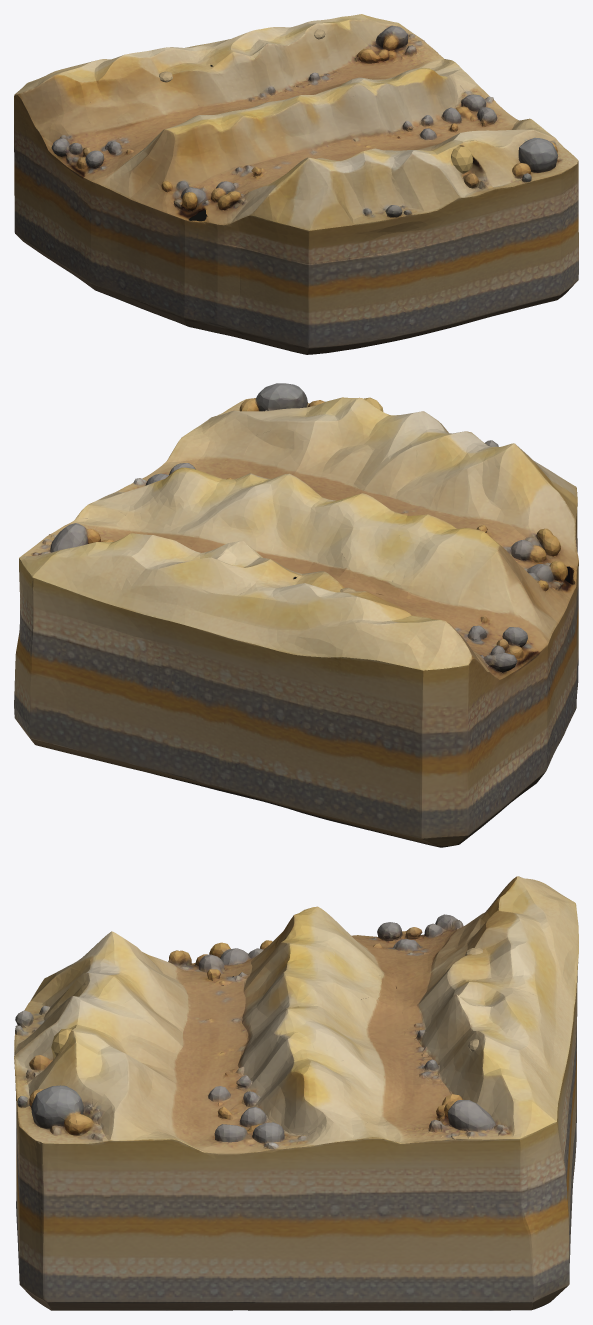
The picture shows the model from 3 angles, top to bottom: view 1: azimuth 30°, elevation 25°; view 2: azimuth 150°, elevation 25°; view 3: azimuth 270°, elevation 25°; orthographic projection. The views are drawn at different scales.
Parts seen in each view (by area): view 1: geometry_0; view 2: geometry_0; view 3: geometry_0.
Boxes of the visible parts, x1,y1,x2,y2 form: geometry_0: (14,14,578,354); geometry_0: (14,383,578,847); geometry_0: (14,876,578,1310).
Bounding box in the file's own units: 24 × 10.98 × 23.89.
1 material, 1 textured.
